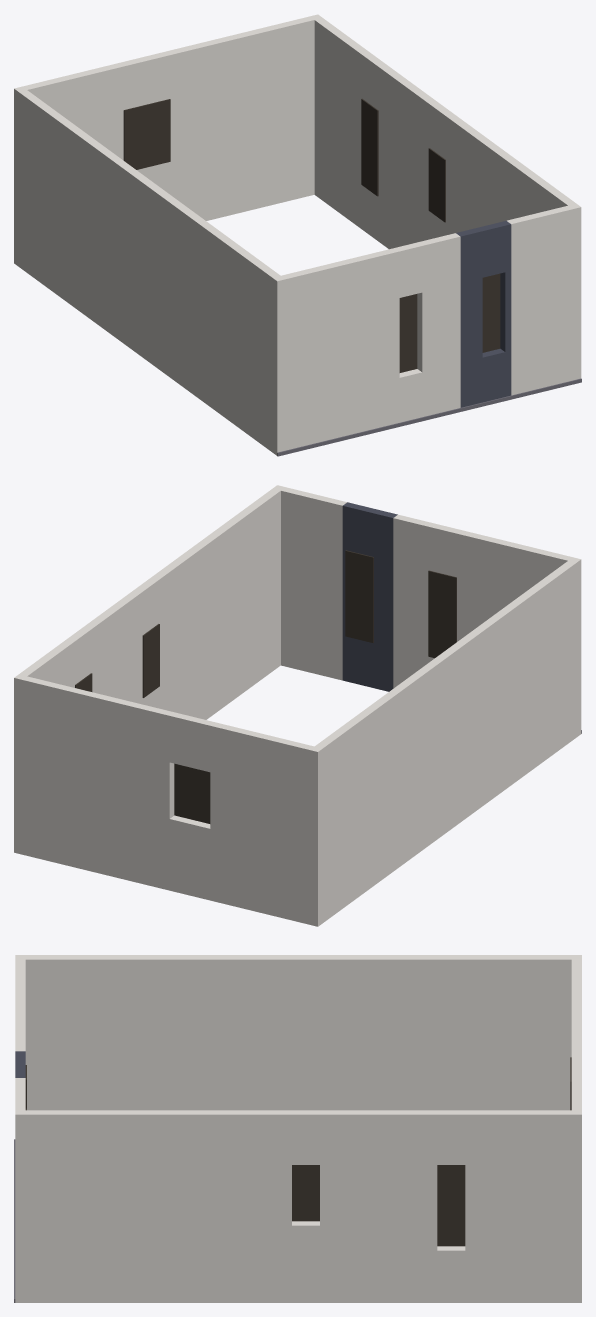
File: SM_Floor_NarrowUpperScatterLowEndR_White_546_Back_01.gltf
3 renders of one model, top to bottom at view 1: azimuth 30°, elevation 25°; view 2: azimuth 150°, elevation 25°; view 3: azimuth 270°, elevation 25°, orthographic. The views are drawn at different scales.
Visible parts, largest first — view 1: SM_Floor_NarrowUpperScatterLowEndR_White_546_Back_01; view 2: SM_Floor_NarrowUpperScatterLowEndR_White_546_Back_01; view 3: SM_Floor_NarrowUpperScatterLowEndR_White_546_Back_01.
Boxes of the visible parts, <box> form: SM_Floor_NarrowUpperScatterLowEndR_White_546_Back_01: <box>14,14,581,456</box>; SM_Floor_NarrowUpperScatterLowEndR_White_546_Back_01: <box>14,485,581,926</box>; SM_Floor_NarrowUpperScatterLowEndR_White_546_Back_01: <box>14,955,581,1302</box>.
Size of the model in its own units: 5.46 by 3 by 8.21.
1 material, 1 textured.
